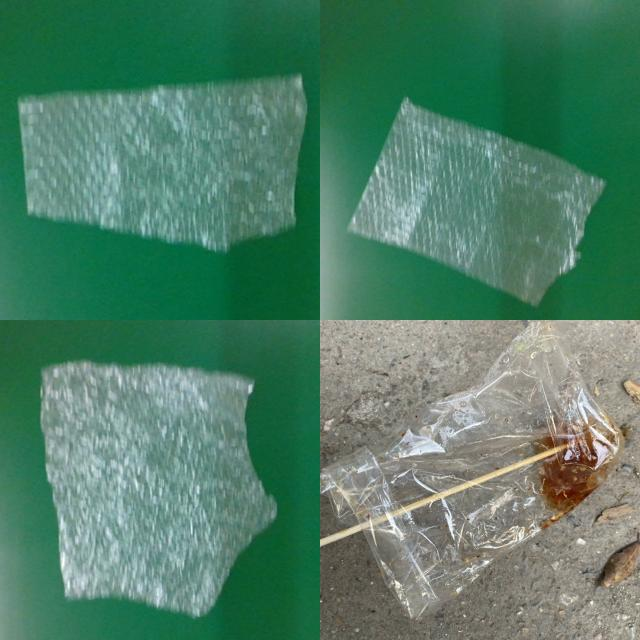Single-layer Plastic: (321, 322, 624, 619), (41, 361, 276, 616), (349, 98, 605, 305), (19, 75, 306, 251)
